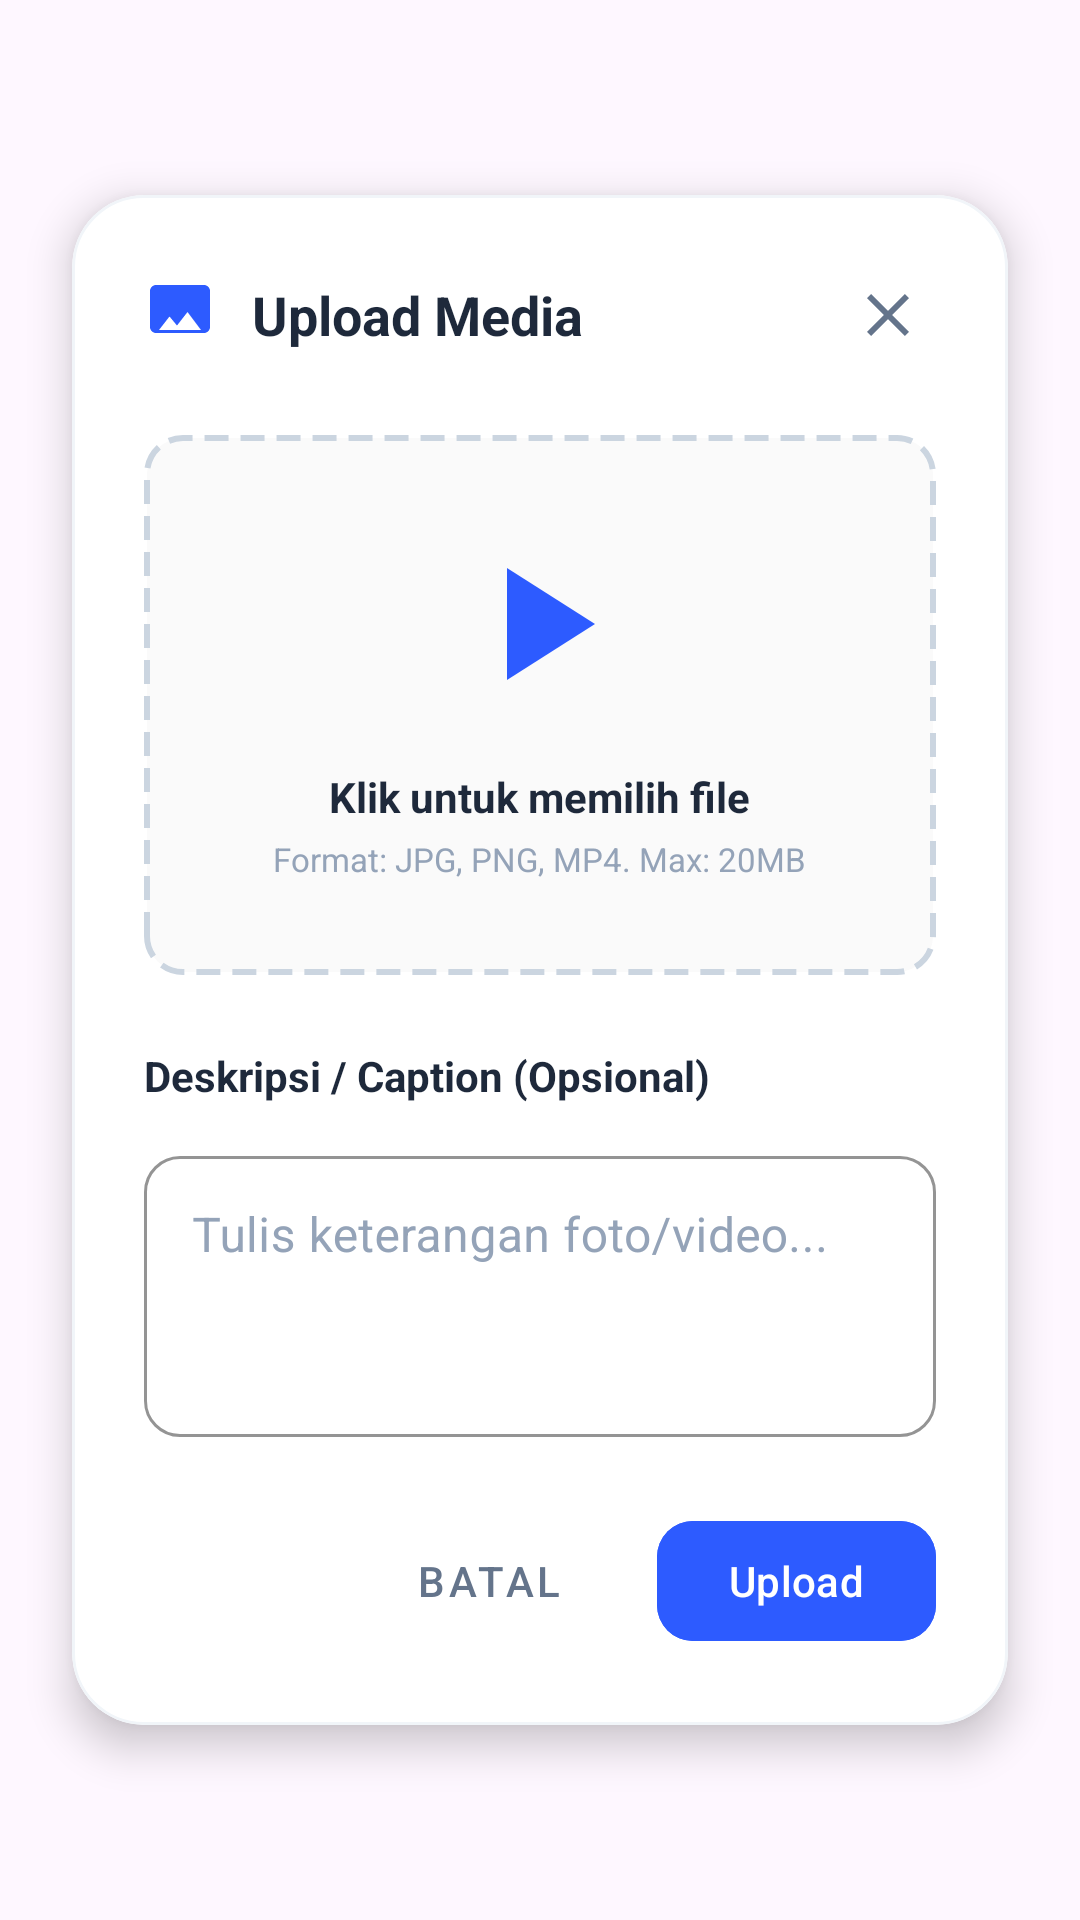

Icon click points for this 1080w x 1920h phone screenshot, format (x,y):
close: (888,315)
gallery: (180,309)
play: (551,624)
